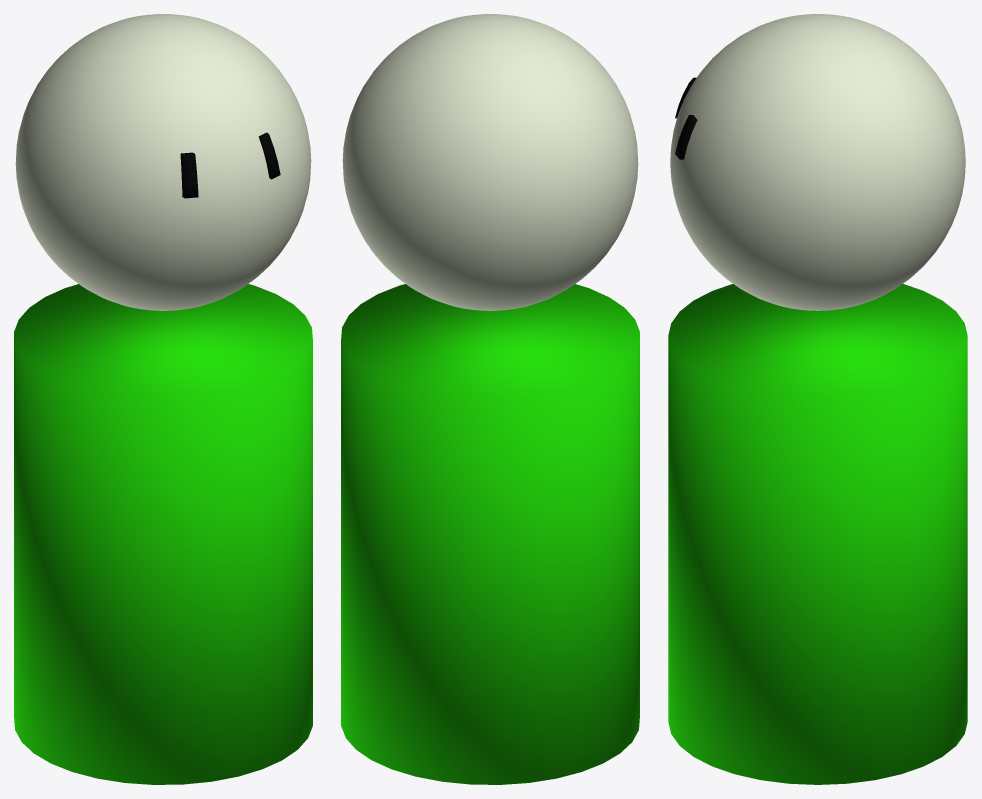
File: char.glb
The picture shows the model from 3 angles, left to right: view 1: azimuth 30°, elevation 25°; view 2: azimuth 150°, elevation 25°; view 3: azimuth 270°, elevation 25°; orthographic projection.
Visible parts, largest first — view 1: 실린더, 구체; view 2: 실린더, 구체; view 3: 실린더, 구체.
Part boxes in pixels (left/top/right/bottom): 실린더: left=14, top=284, right=312, bottom=784; 구체: left=15, top=14, right=311, bottom=310; 실린더: left=341, top=284, right=639, bottom=784; 구체: left=342, top=14, right=638, bottom=310; 실린더: left=668, top=284, right=967, bottom=784; 구체: left=670, top=14, right=965, bottom=310.
Size of the model in its own units: 1 by 2.56 by 1.
